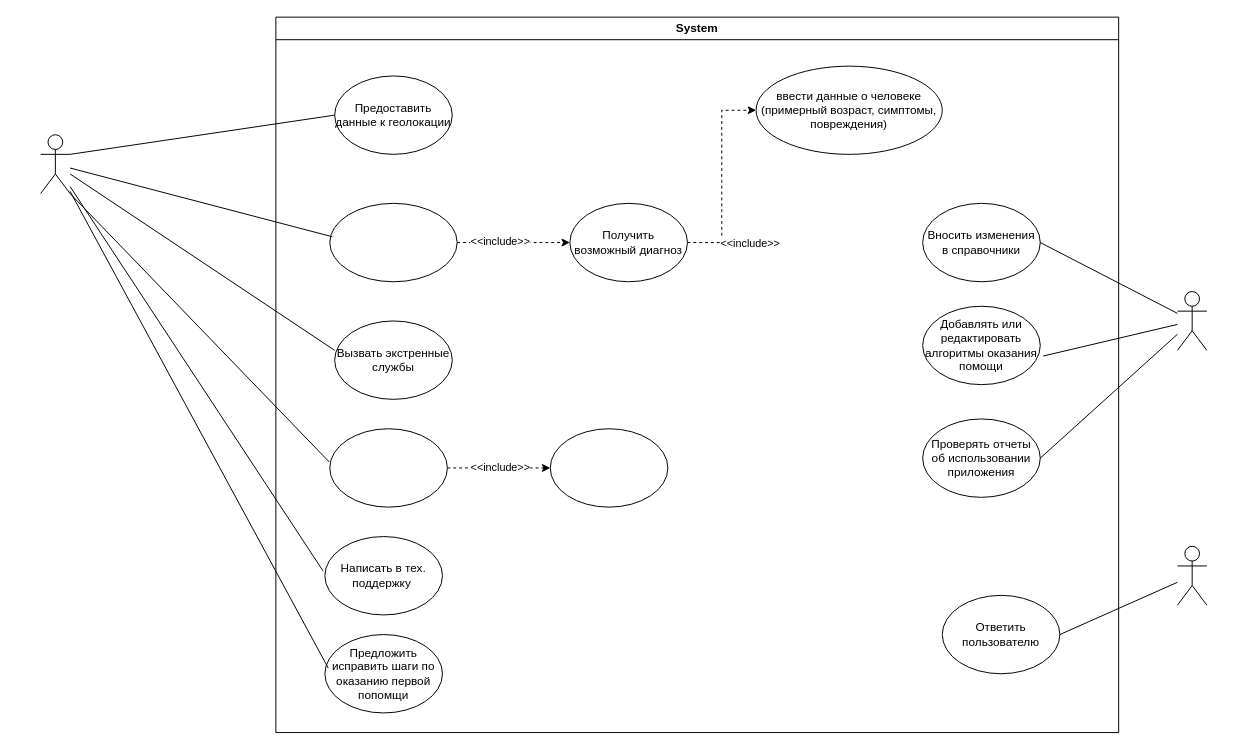
The diagram is 1251 pixels wide and 750 high, and some of its shapes have lost their labels. The shapes that lost their labels are listed below. From the top down, each one's centre as x and y in pixels, then its label:
point (55, 164): Пользователь
point (393, 242): получить ряд шагов для оказания первой помощи
point (1191, 320): Администратор
point (388, 467): Зарегистрироваться
point (608, 467): Ввести данные о пользователе
point (1191, 575): Тех.поддержка
